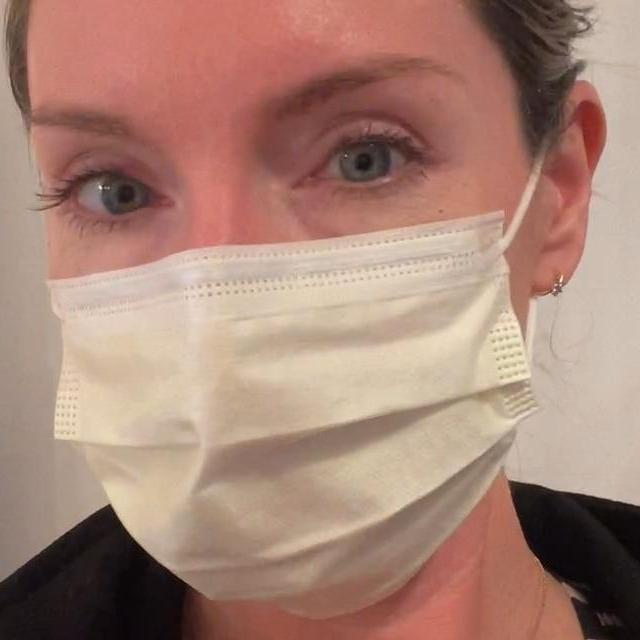Mask: (57, 239, 533, 608)
Person: (0, 0, 640, 640)
